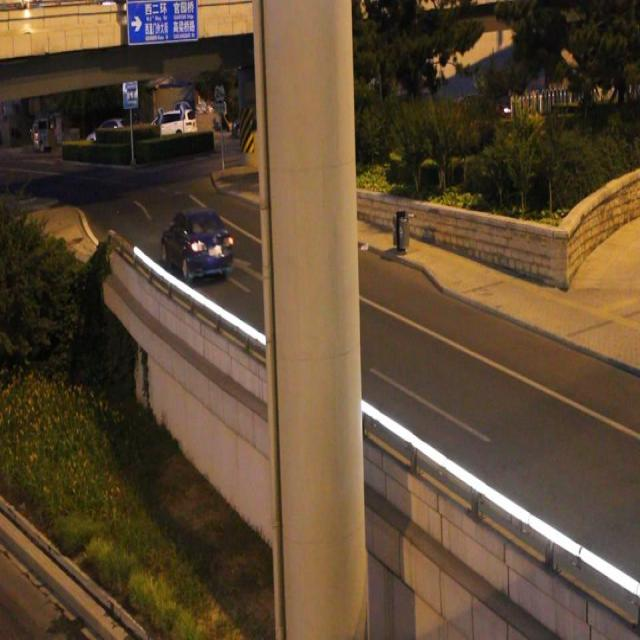car: (160, 206, 233, 280)
